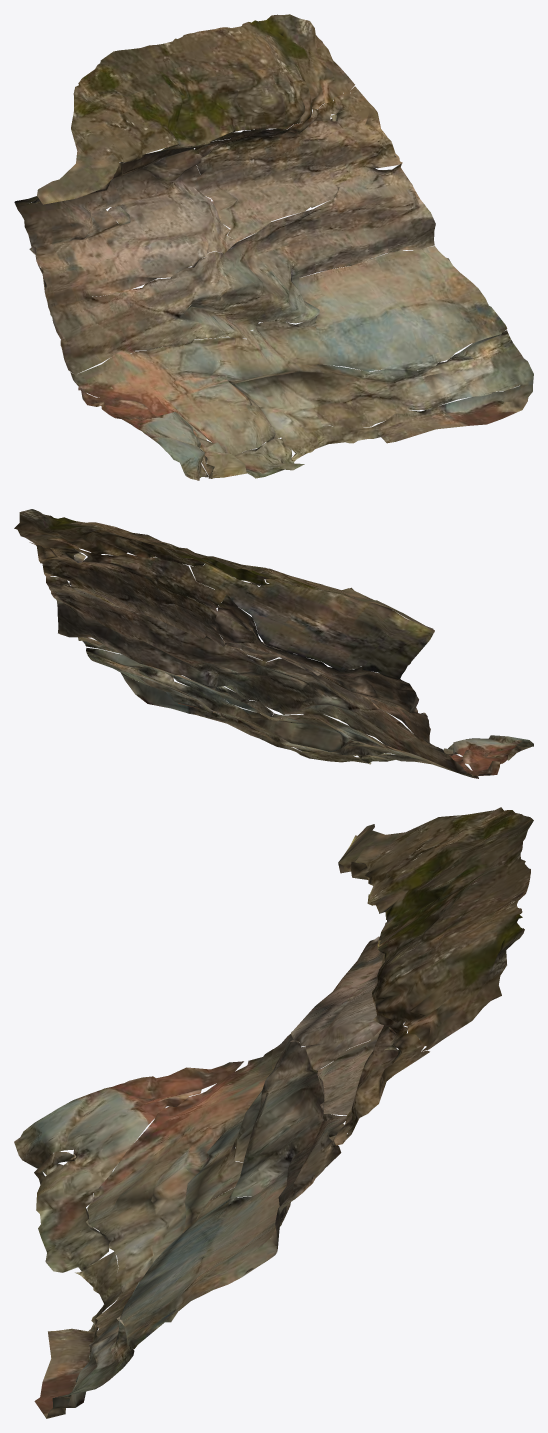
Rendered from rock_face_01.glb.
The picture shows the model from 3 angles, top to bottom: view 1: azimuth 30°, elevation 25°; view 2: azimuth 150°, elevation 25°; view 3: azimuth 270°, elevation 25°; orthographic projection. The views are drawn at different scales.
Parts seen in each view (by area): view 1: rock_face_01; view 2: rock_face_01; view 3: rock_face_01.
Boxes of the visible parts, box(x1,y1,x2,y2) form: rock_face_01: box(14, 14, 533, 480); rock_face_01: box(14, 509, 533, 778); rock_face_01: box(14, 807, 533, 1418).
Bounding box in the file's own units: 4.95 × 3.57 × 3.83.
Materials: 1 (1 with a texture image).
